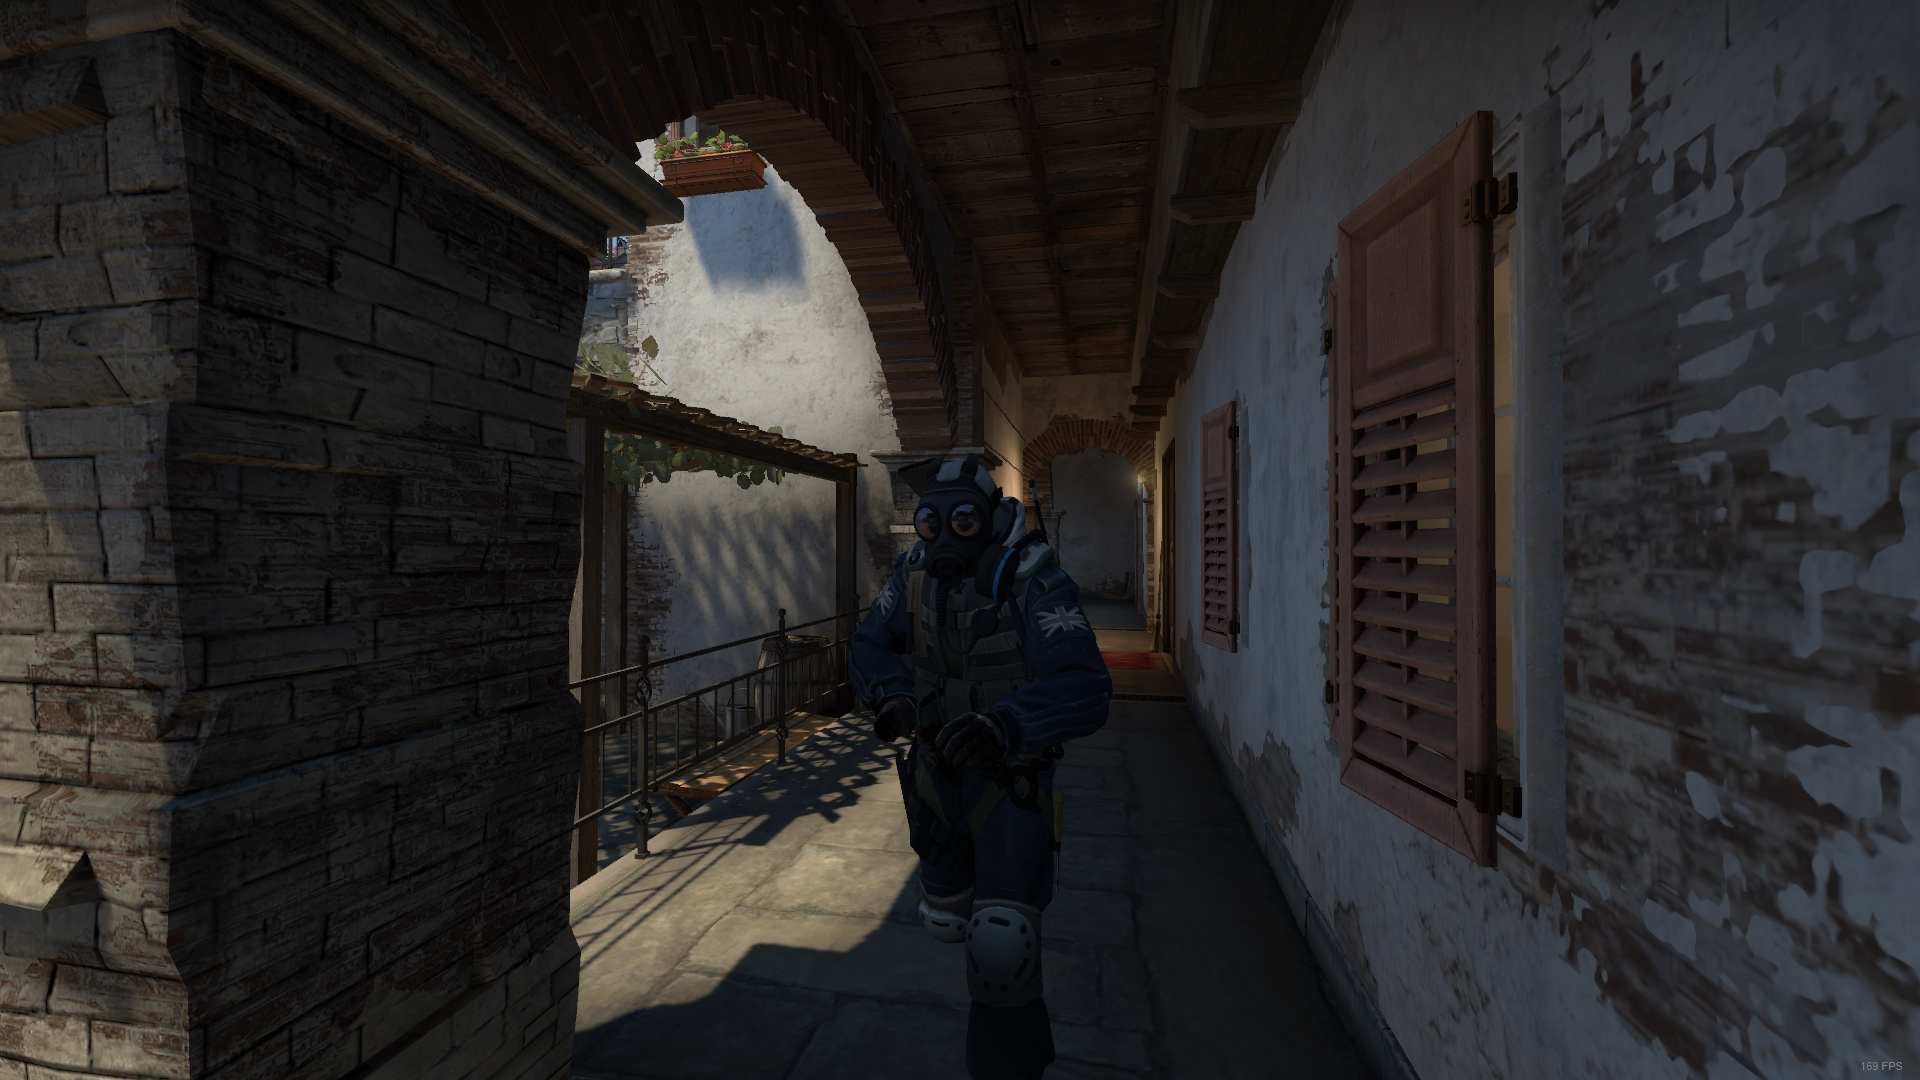ct: (849, 451, 1133, 1079)
